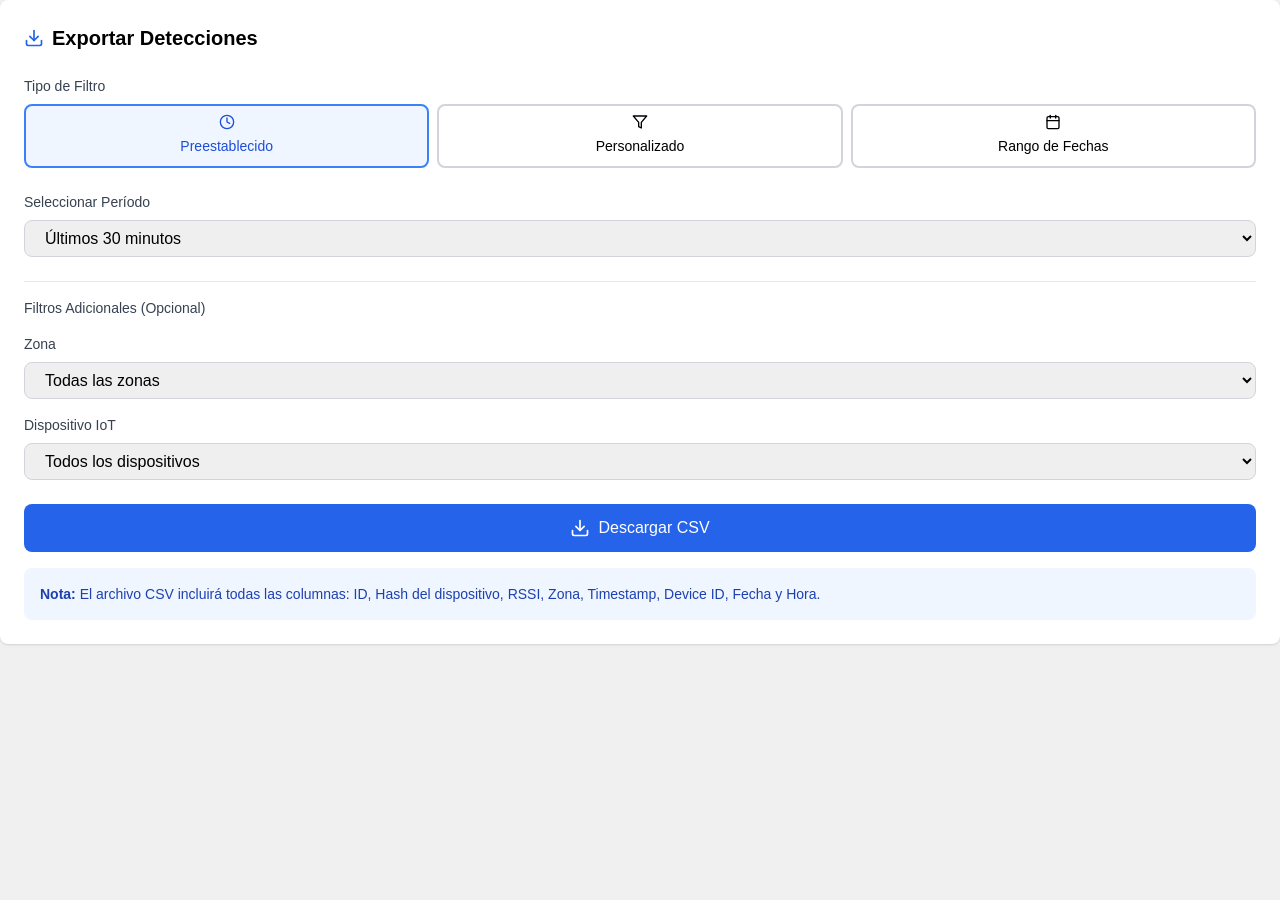
Test: ExportFilters Component › debe validar y limpiar el input de cantidad personalizada (líneas 55-58, 61-63)
The width and height of the screenshot is (1280, 900).
Step 1. Click the button "Personalizado" → [640, 136], box [437,104,843,168]
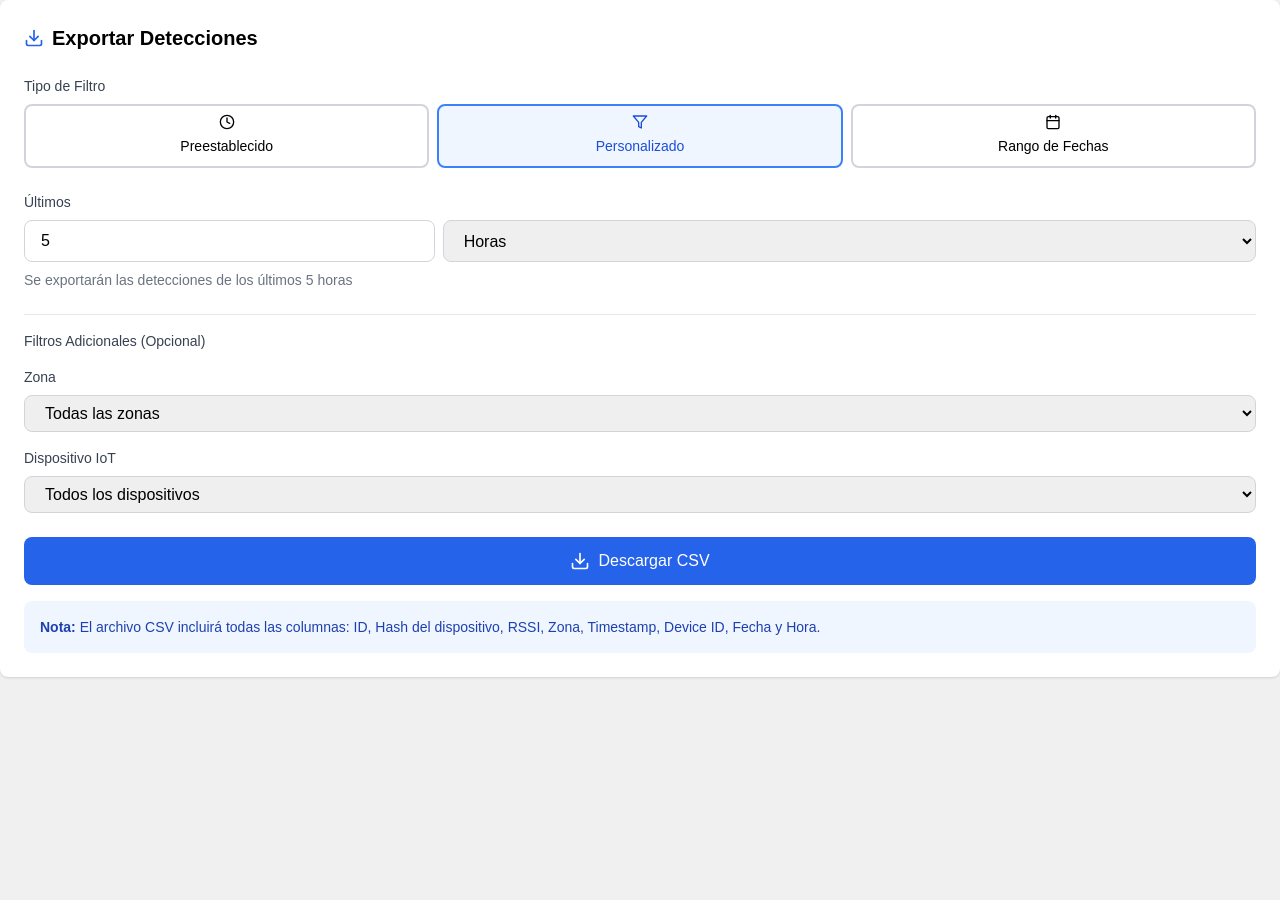
Note: Prueba de eliminación de caracteres no numéricos (Línea 55)
Step 2. Replace the text in the field with placeholder "Cantidad" with "10abc20" → [229, 241], box [24,220,435,262]
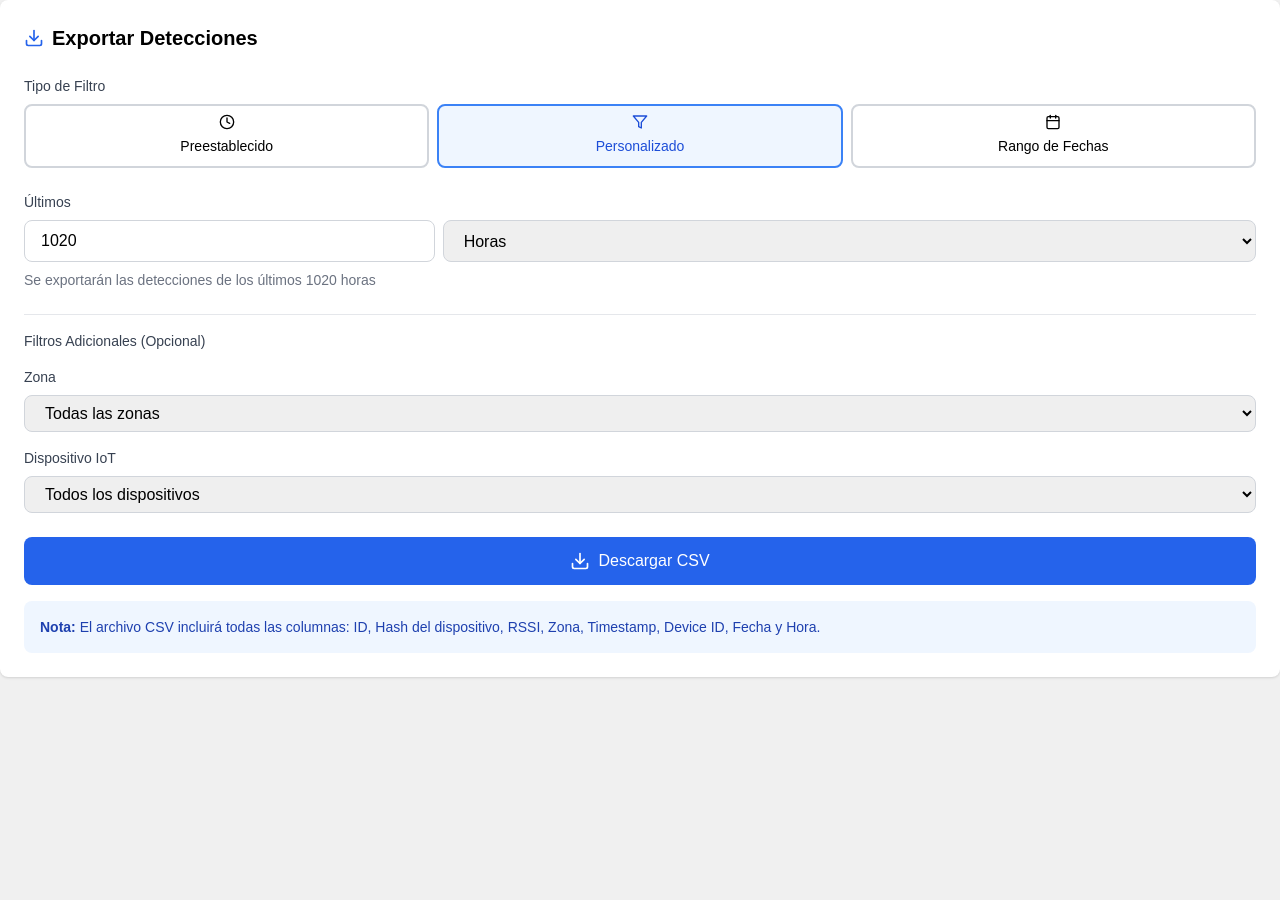
Now the field with placeholder "Cantidad" holds "1020"
Note: Prueba de eliminación de ceros a la izquierda (Línea 57)
Step 3. Replace the text in the field with placeholder "Cantidad" with "007" → [229, 241], box [24,220,435,262]
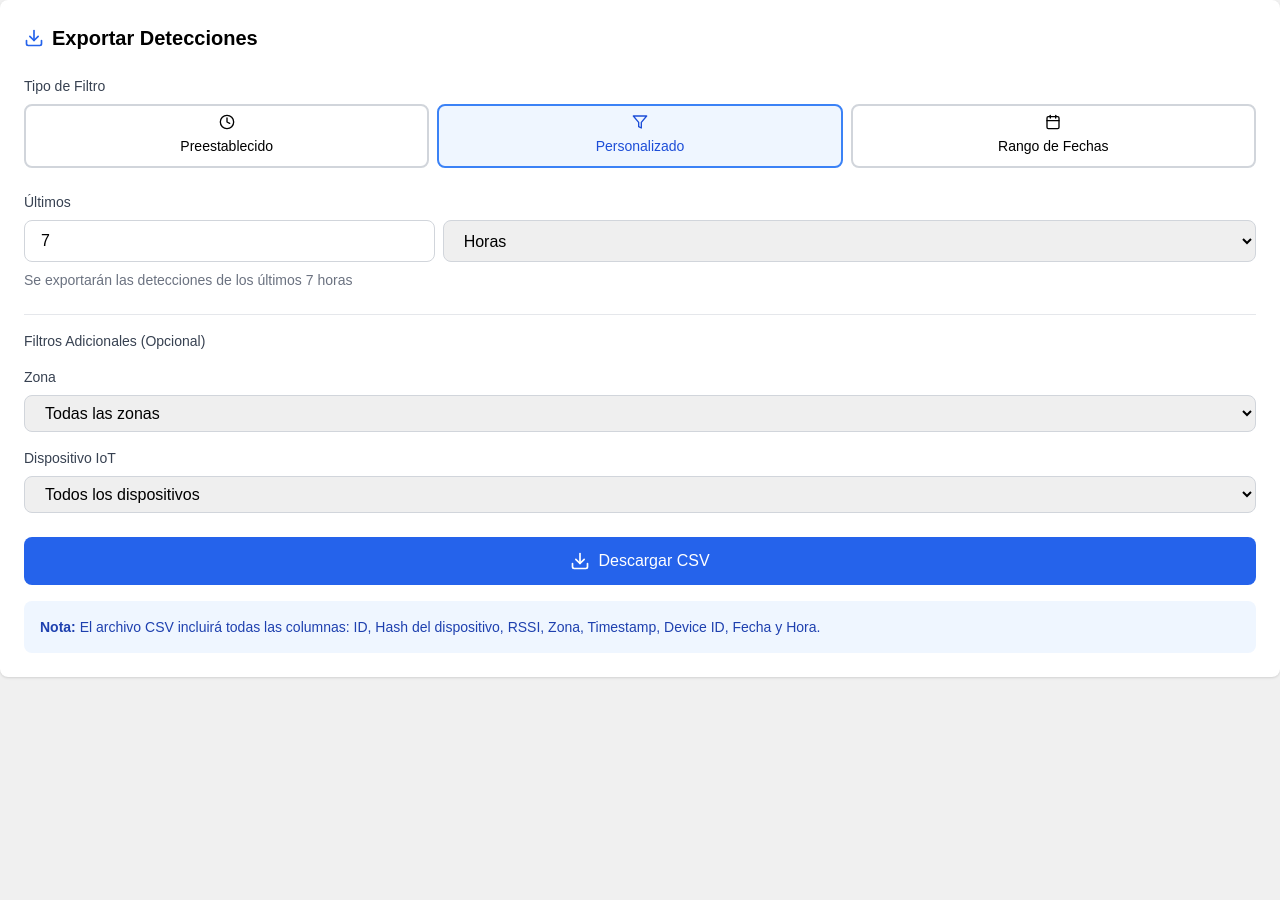
Now the field with placeholder "Cantidad" holds "7"
Note: Validación de estado vacío (Línea 61-63 para el botón deshabilitado)
Step 4. Clear the field with placeholder "Cantidad" → [229, 241], box [24,220,435,262]
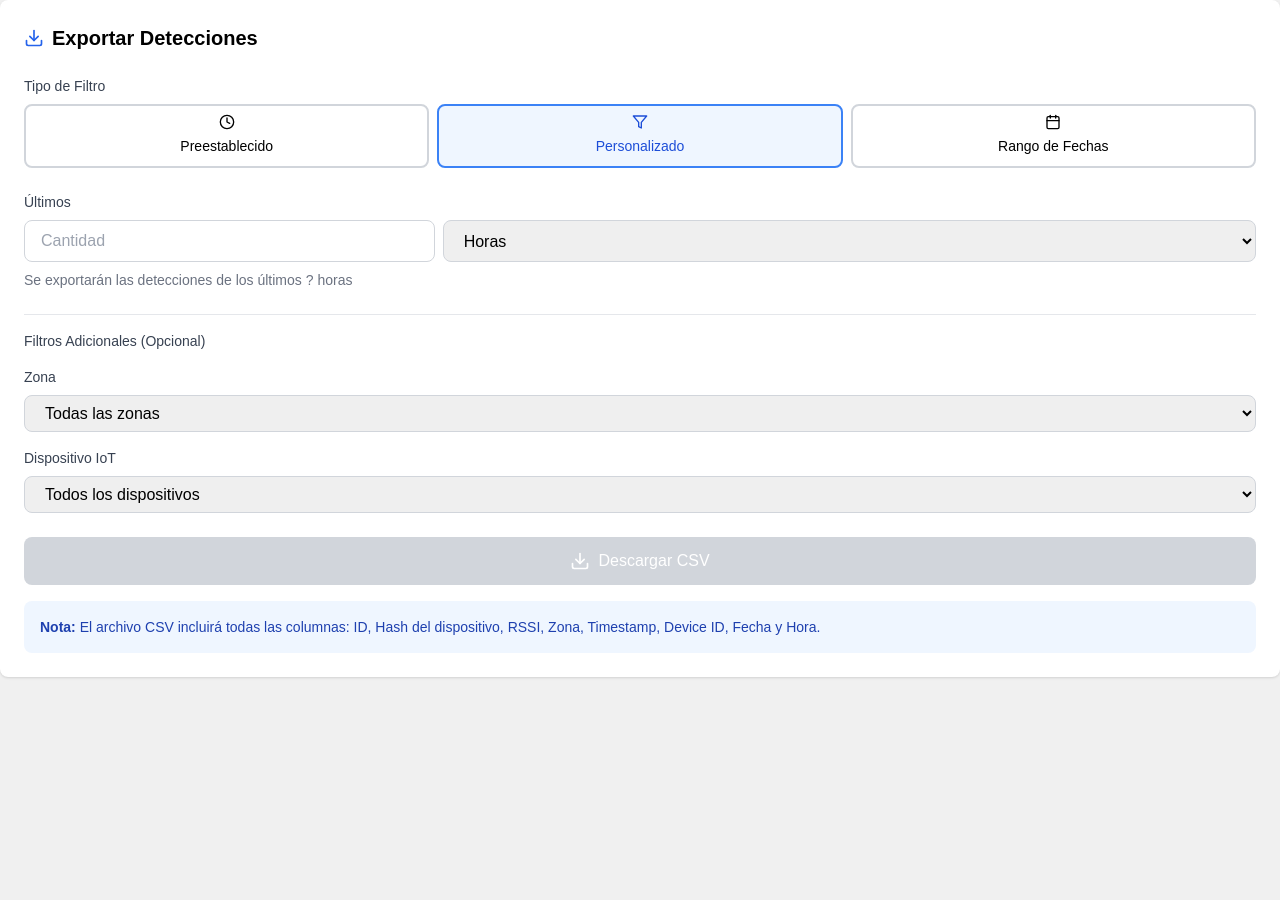
Now the button "Descargar CSV" is disabled, box [24,537,1256,585]
